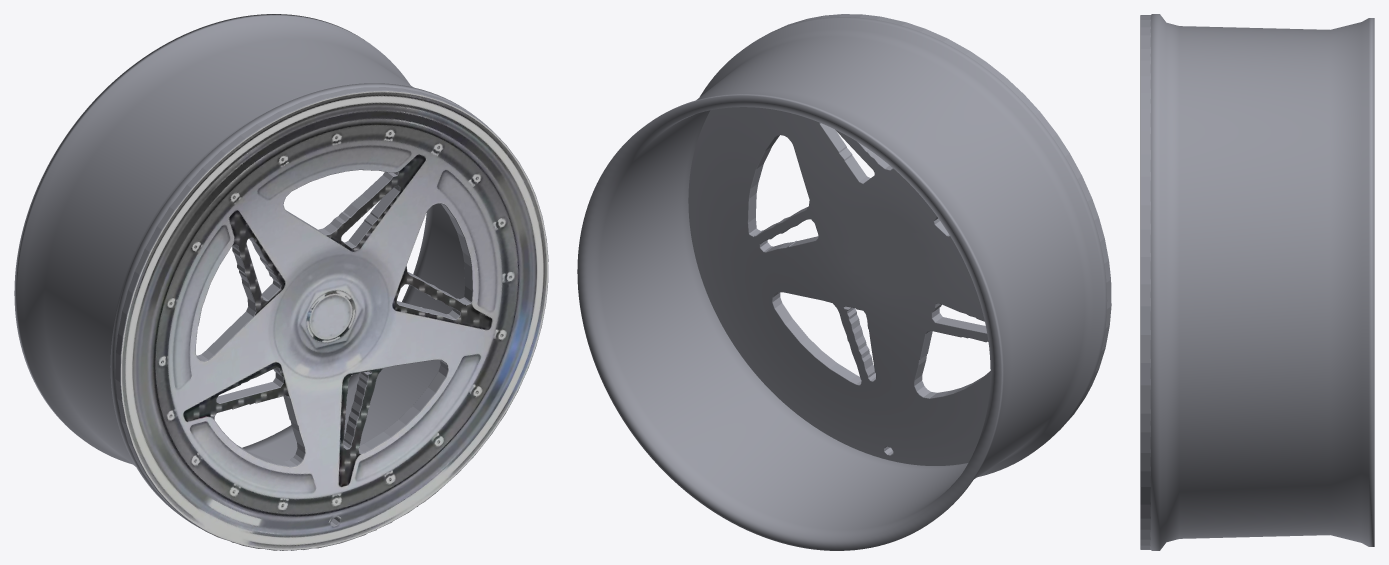
File: e6-multipiece-se5.glb
3 renders of one model, left to right at view 1: azimuth 30°, elevation 25°; view 2: azimuth 150°, elevation 25°; view 3: azimuth 270°, elevation 25°, orthographic. The views are drawn at different scales.
Parts seen in each view (by area): view 1: Photo_traced_face_0, Approximate_rear_barrel; view 2: Approximate_rear_barrel, Photo_traced_face_0; view 3: Approximate_rear_barrel, Photo_traced_face_0.
Part boxes in pixels (x1=…): Photo_traced_face_0: x1=115, y1=87, x2=548, y2=550; Approximate_rear_barrel: x1=14, y1=14, x2=492, y2=529; Approximate_rear_barrel: x1=577, y1=17, x2=1107, y2=550; Photo_traced_face_0: x1=688, y1=14, x2=1111, y2=465; Approximate_rear_barrel: x1=1150, y1=14, x2=1374, y2=550; Photo_traced_face_0: x1=1140, y1=15, x2=1150, y2=549.
Bounding box in the file's own units: 2.06 × 2.06 × 0.9.
2 materials, 1 textured.
